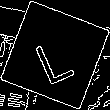L_NW: (31, 25, 79, 85)
